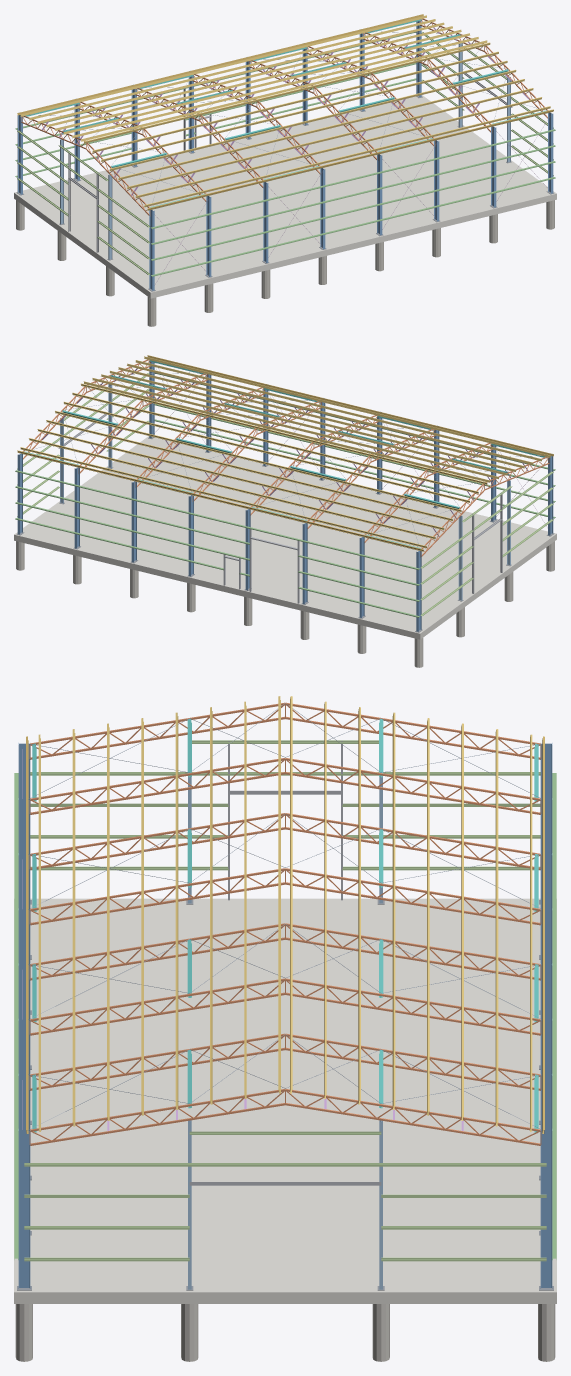
The model's file is portal-shed-structural.glb.
The picture shows the model from 3 angles, top to bottom: view 1: azimuth 30°, elevation 25°; view 2: azimuth 150°, elevation 25°; view 3: azimuth 270°, elevation 25°; orthographic projection. The views are drawn at different scales.
Visible parts, largest first — view 1: Slabs mesh, Members mesh (×10), Columns mesh, Piles mesh, Footings mesh; view 2: Slabs mesh, Members mesh (×10), Columns mesh, Piles mesh, Footings mesh; view 3: Slabs mesh, Members mesh (×8), Columns mesh, Footings mesh, Piles mesh, Beams mesh.
Part boxes in pixels (box(x1,y1,x2,y2)): Slabs mesh: box(14, 95, 556, 294); Members mesh (×10): box(15, 14, 555, 276); Columns mesh: box(17, 20, 553, 290); Piles mesh: box(16, 200, 554, 326); Footings mesh: box(14, 195, 556, 298); Slabs mesh: box(14, 436, 556, 635); Members mesh (×10): box(15, 355, 555, 617); Columns mesh: box(17, 361, 553, 631); Piles mesh: box(16, 541, 554, 667); Footings mesh: box(14, 536, 556, 639); Slabs mesh: box(14, 898, 556, 1296); Members mesh (×8): box(14, 696, 556, 1289); Columns mesh: box(18, 743, 552, 1288); Footings mesh: box(14, 1296, 556, 1303); Piles mesh: box(15, 1304, 555, 1361); Beams mesh: box(189, 790, 381, 1185).
Size of the model in its own units: 32.1 by 10.36 by 18.72.
